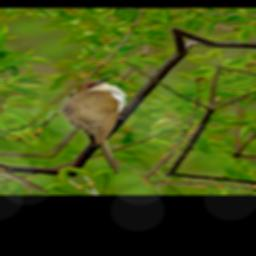Cuckoo: (23, 74, 200, 175)
